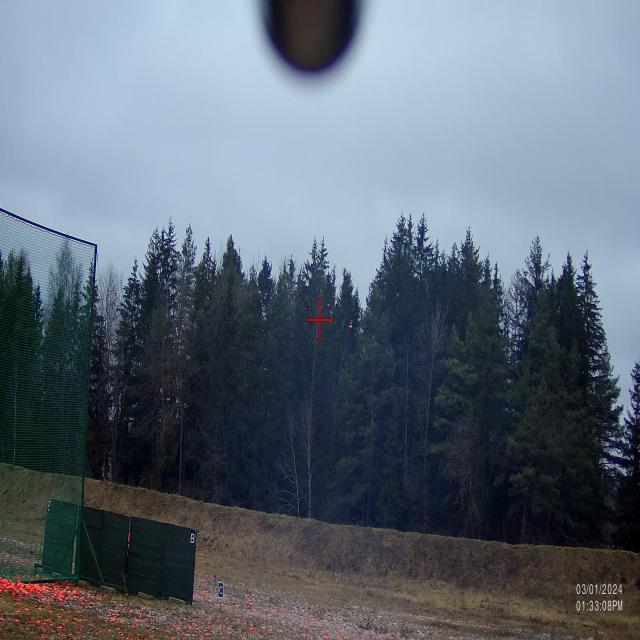broken: (298, 288, 369, 357)
